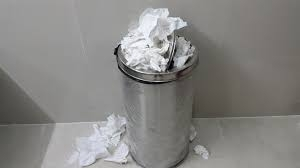paper: (116, 4, 199, 72), (91, 108, 131, 147), (73, 130, 111, 166), (191, 142, 213, 160)
